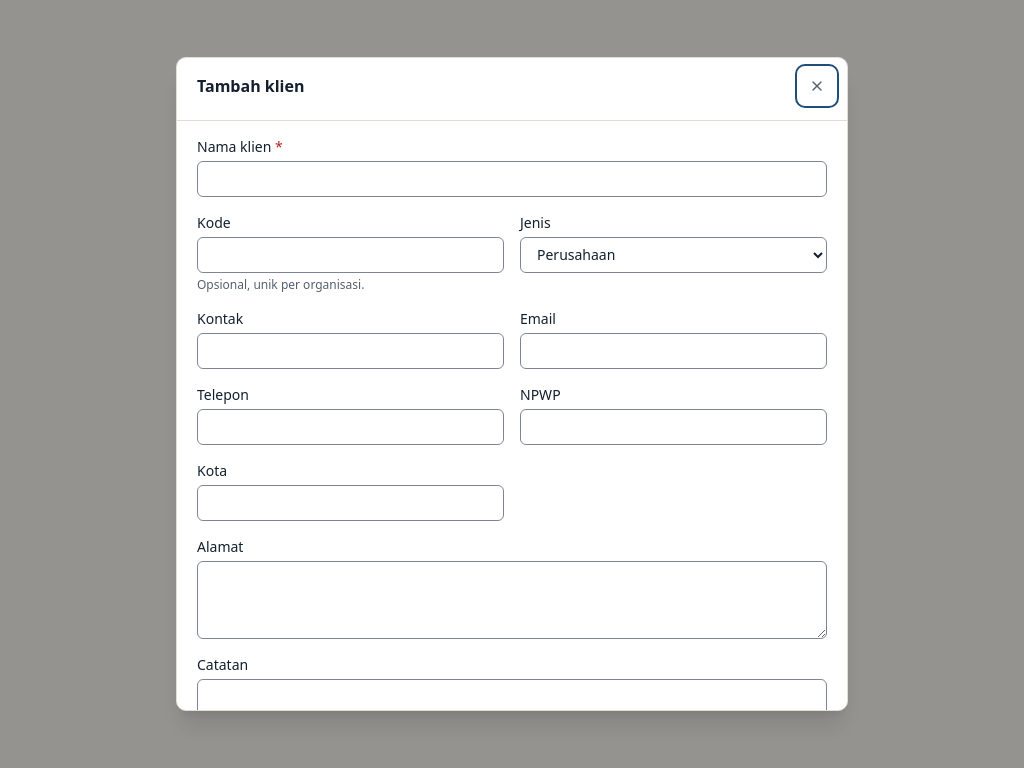
Test case: ClientFormDialog › blocks invalid NPWP on the client side
In the field labelled "Nama klien *": (512, 179) [197,161,827,197], type "PT X"
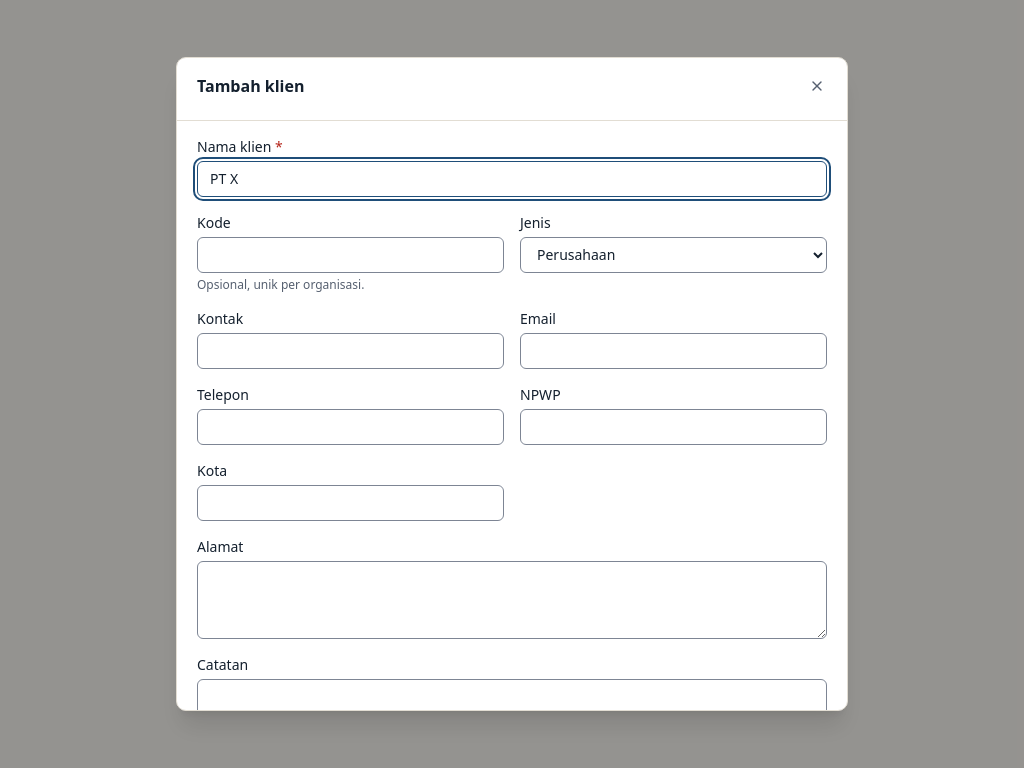
In the field labelled "NPWP": (674, 427) [520,409,827,445], type "123"
(page scrolled)
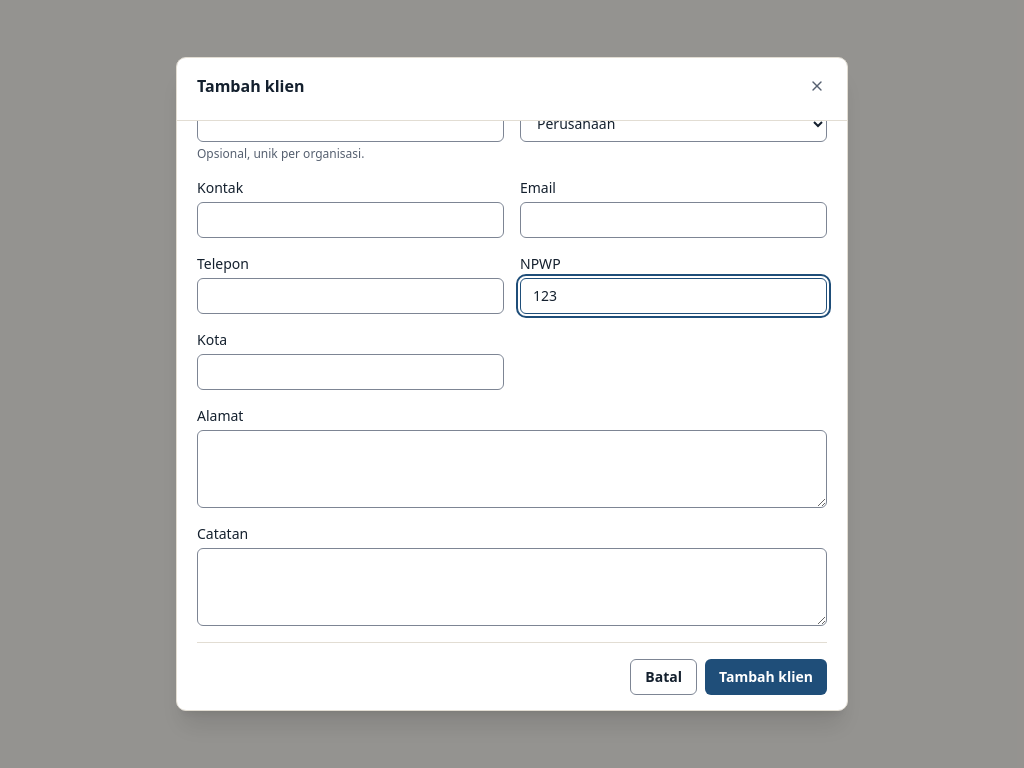
Click the button "Tambah klien": (766, 677) [705,659,827,695]
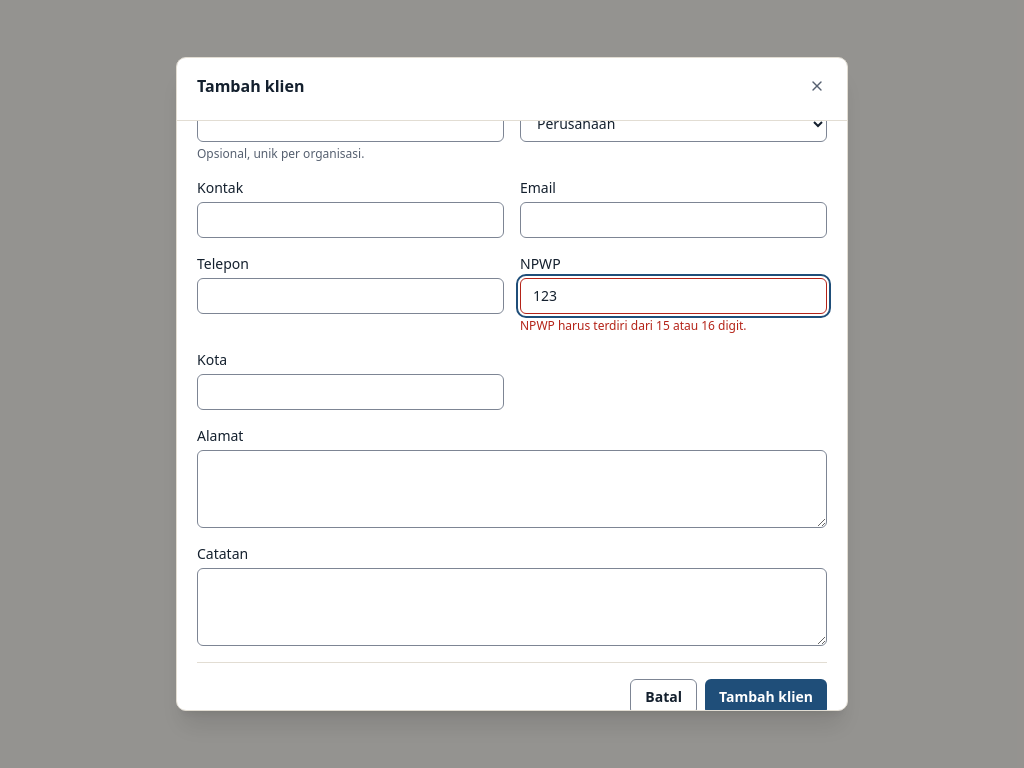
Result: the text "NPWP harus terdiri dari 15 atau 16 digit." is shown at [520,317,747,334]
